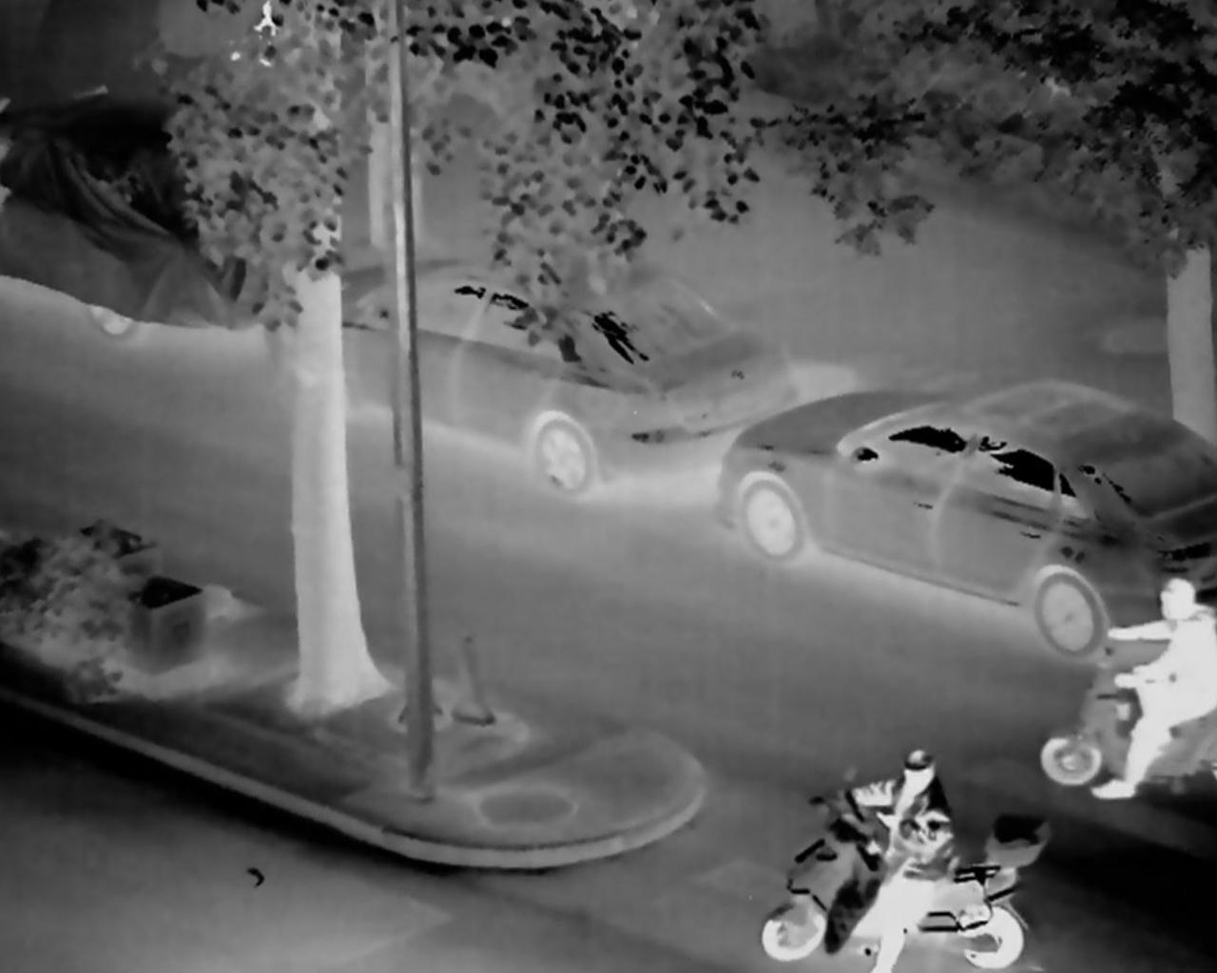person: (824, 737, 964, 973), (1112, 578, 1217, 796)
